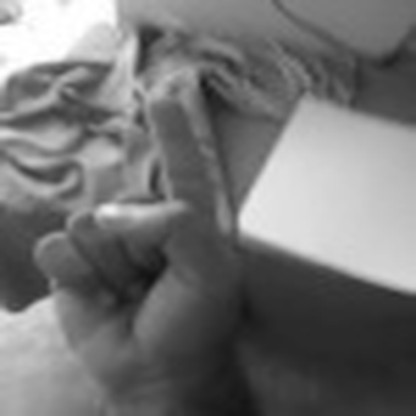d: (30, 84, 245, 404)
